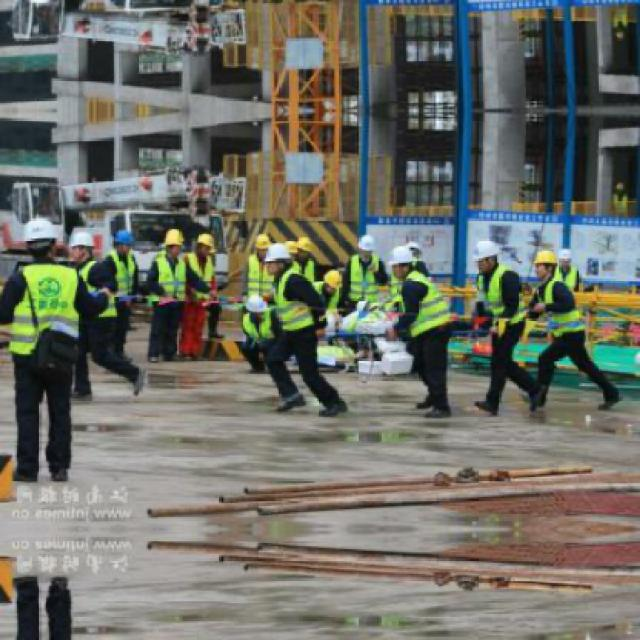con casco: (266, 228, 342, 272), (390, 220, 449, 269), (156, 220, 224, 258), (540, 235, 580, 296), (23, 218, 82, 257), (67, 224, 116, 261), (488, 228, 518, 254)
